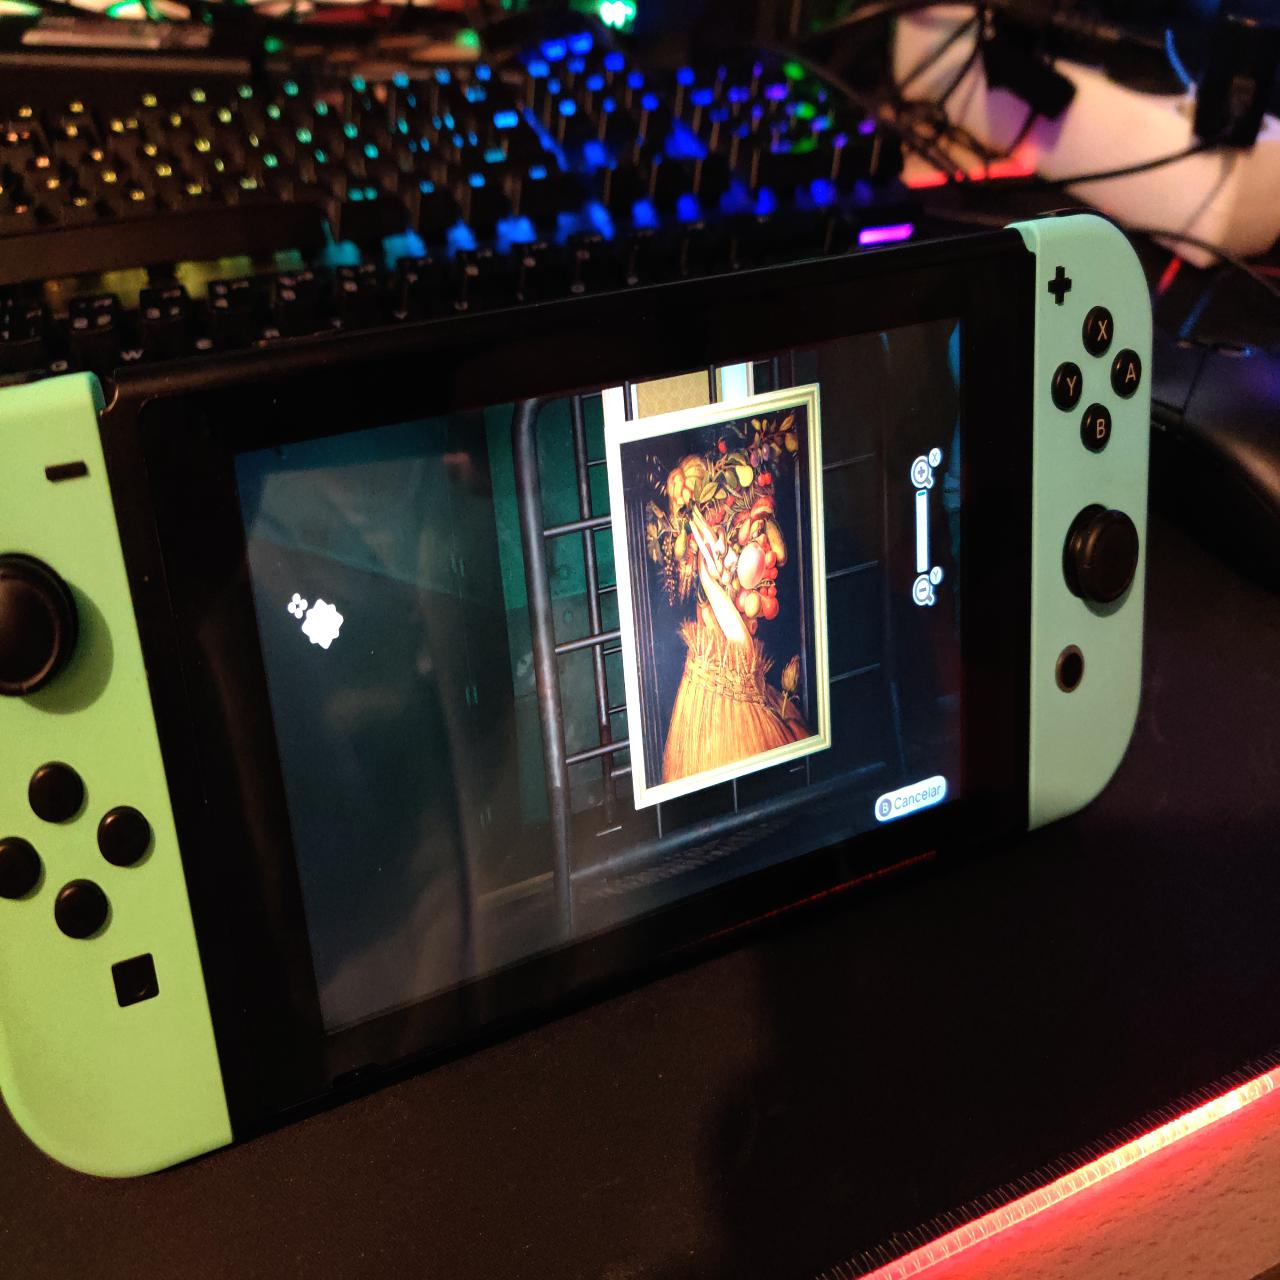Summer: (619, 404, 824, 788)
